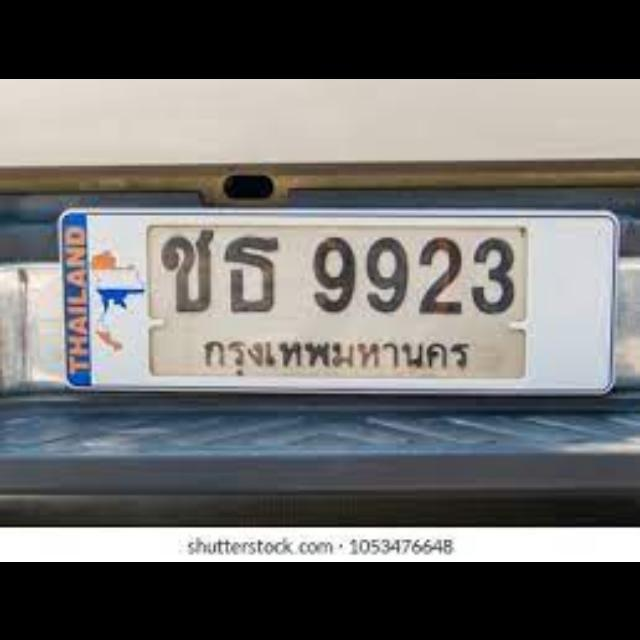licenseplate: (60, 206, 614, 394)
